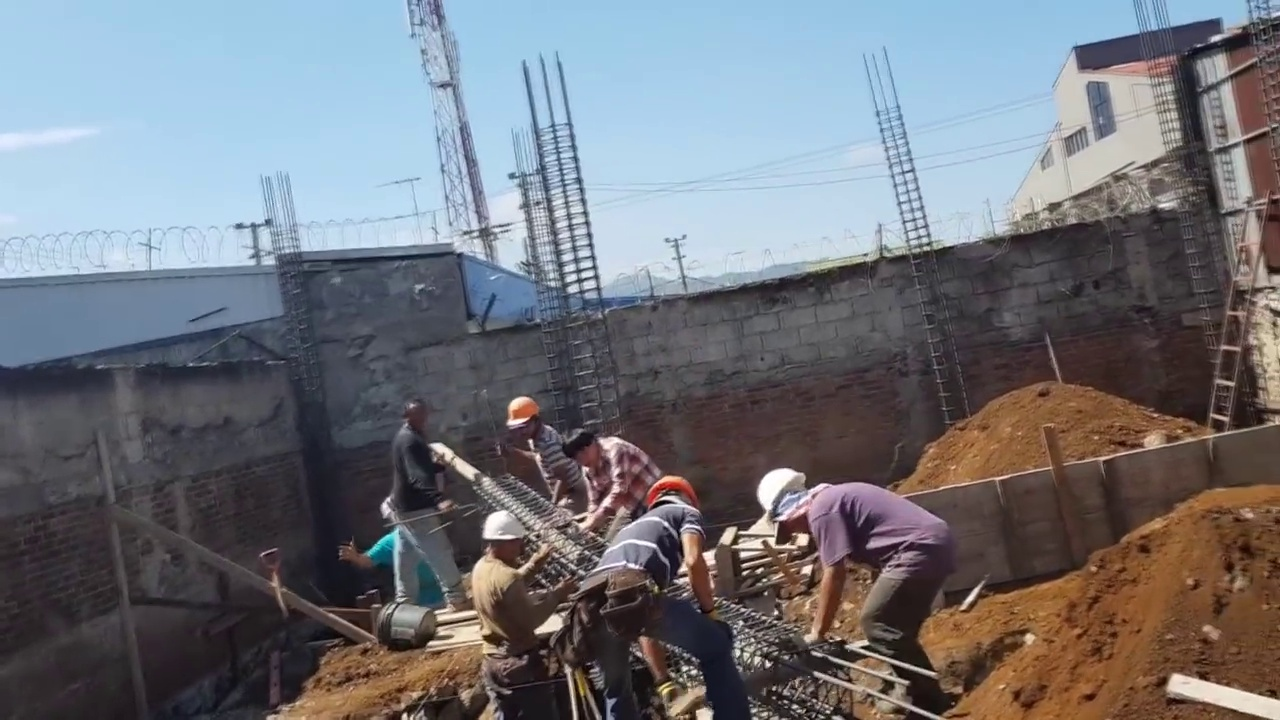helmet: (760, 469, 805, 527), (645, 477, 697, 508), (481, 517, 529, 543), (506, 397, 539, 429), (378, 495, 394, 520)
helmet-off: (562, 430, 600, 468), (402, 400, 432, 433)
helmet-on: (758, 467, 817, 541), (481, 516, 528, 573), (643, 478, 698, 520), (506, 396, 542, 441), (378, 495, 400, 535)
person: (756, 468, 950, 692), (576, 472, 746, 720), (469, 510, 566, 693), (386, 401, 463, 609), (340, 492, 428, 618), (562, 430, 661, 539), (504, 395, 587, 515)
